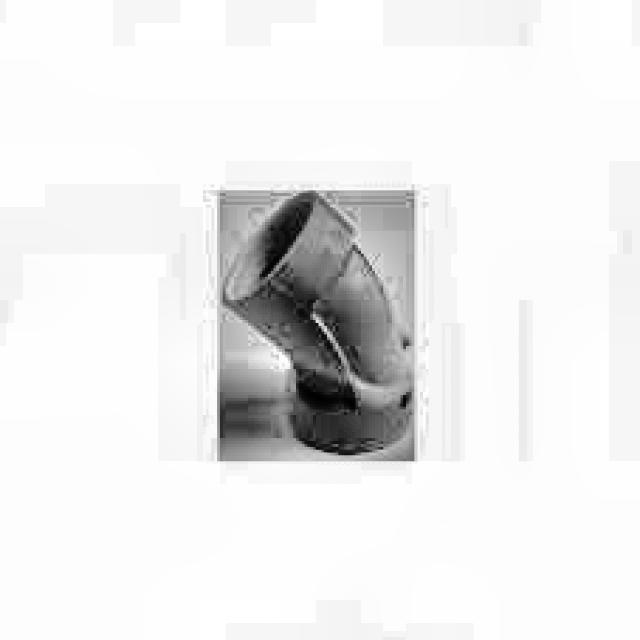ELBOW45: (223, 193, 414, 458)
